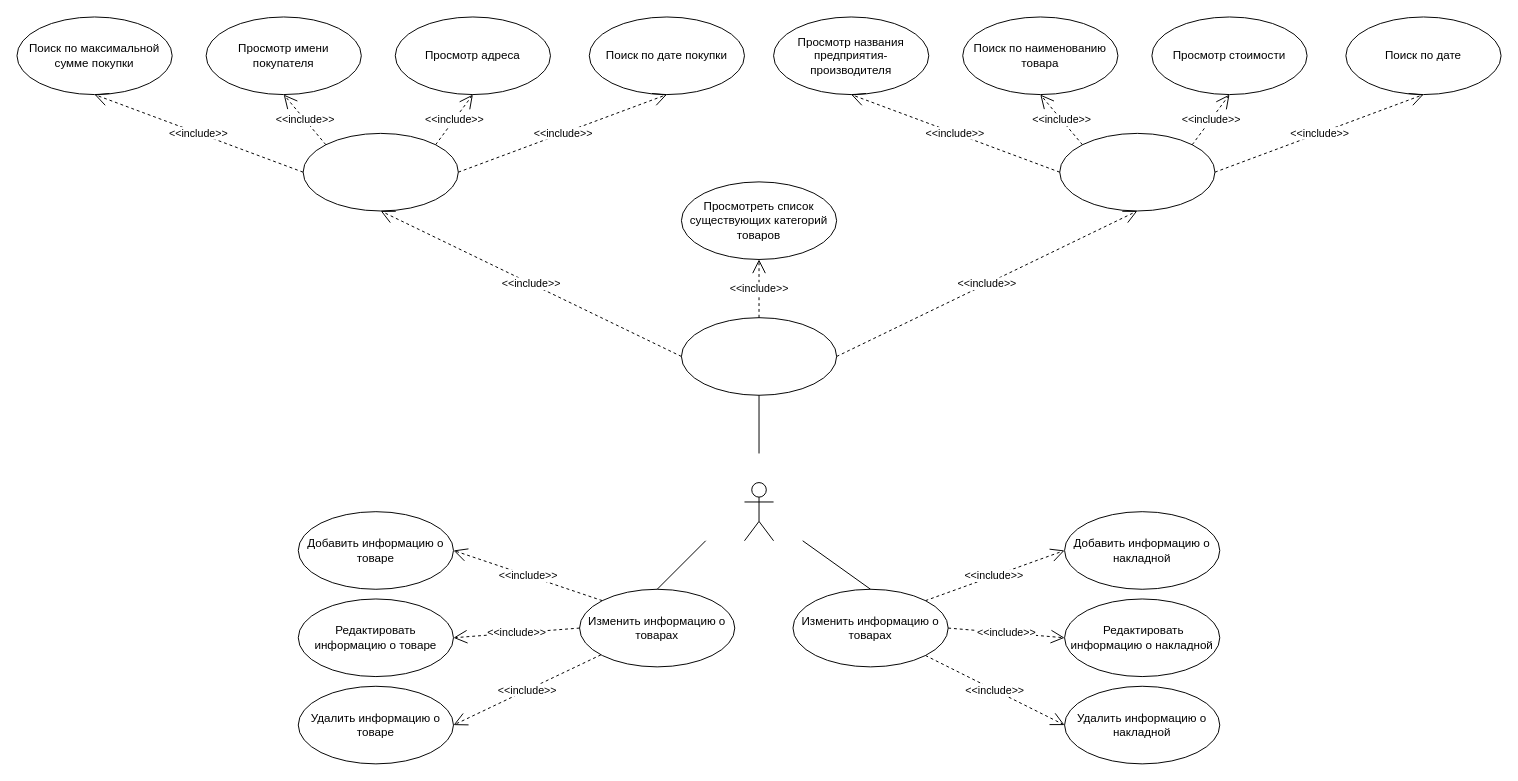
The diagram is 1518 pixels wide and 781 high, and some of its shapes have lost their labels. Here are the shapes that lost their labels. From the top down, the centre of each, then its label:
At point (380, 171): "Просмотреть список покупателей".
At point (1137, 171): "Просмотреть список изменений стоимости товара".
At point (758, 356): "Просмотреть списки с данными".
At point (759, 511): "Пользователь".
